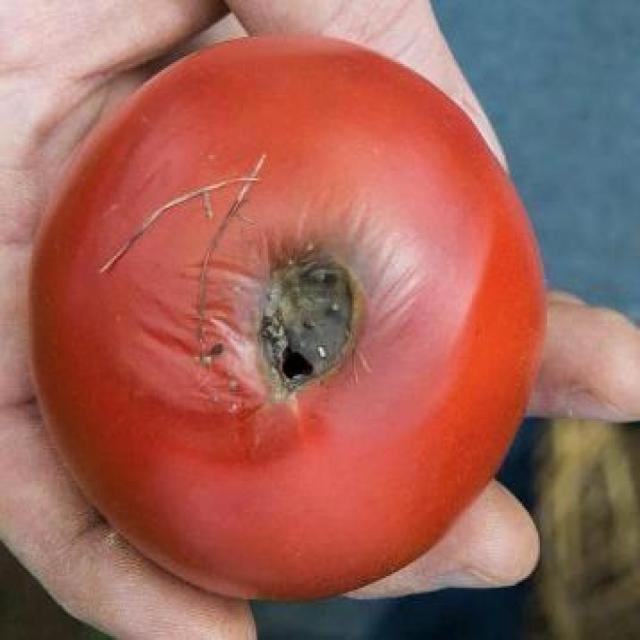Blossom End Rot Fruit: (163, 149, 252, 273)
